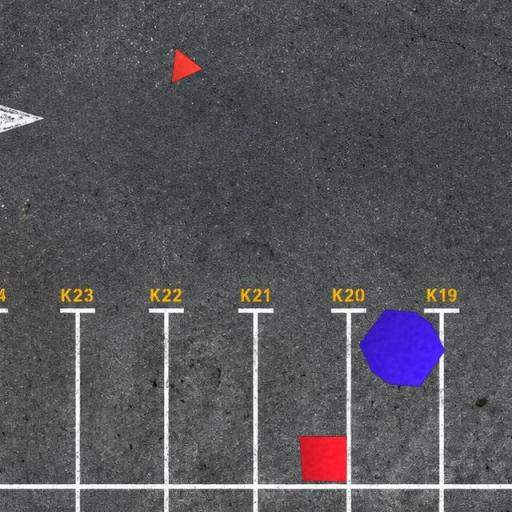RED_SQUARE: (298, 436, 348, 482)
